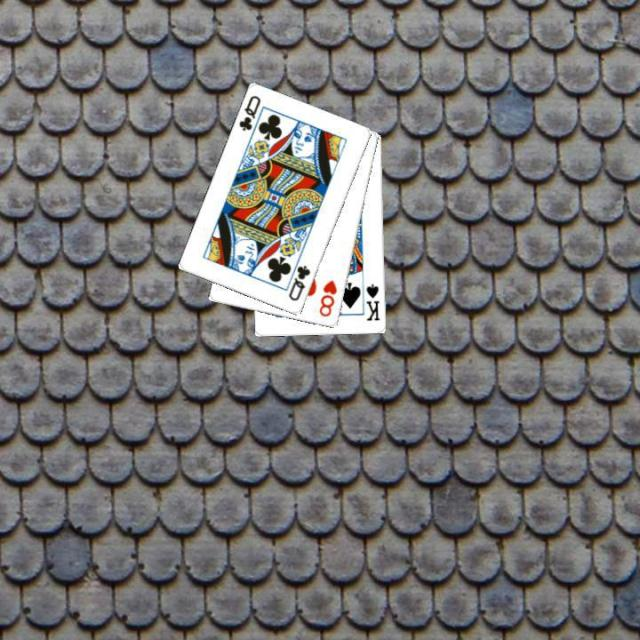8H: (316, 277, 338, 319)
KS: (363, 280, 381, 324)
QC: (284, 261, 312, 303), (235, 92, 263, 134)
